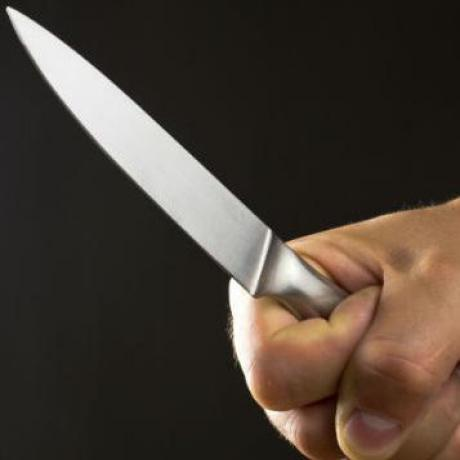1: (226, 191, 460, 460)
weapon: (2, 0, 310, 295)
